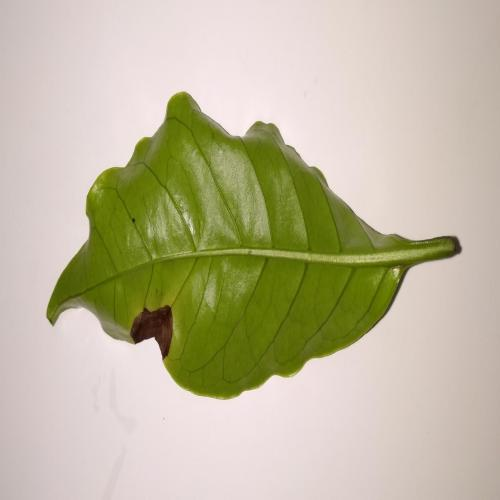miner: (130, 305, 173, 359)
